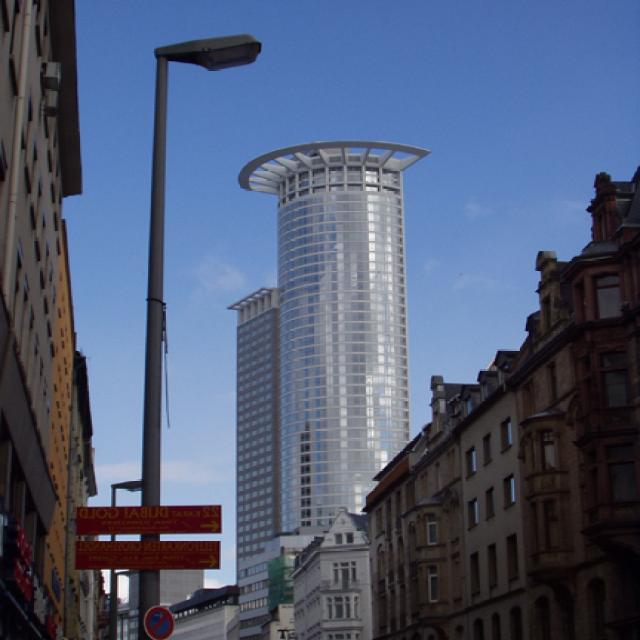building: (361, 161, 640, 640), (225, 132, 432, 640), (0, 0, 98, 640), (287, 509, 375, 640)
